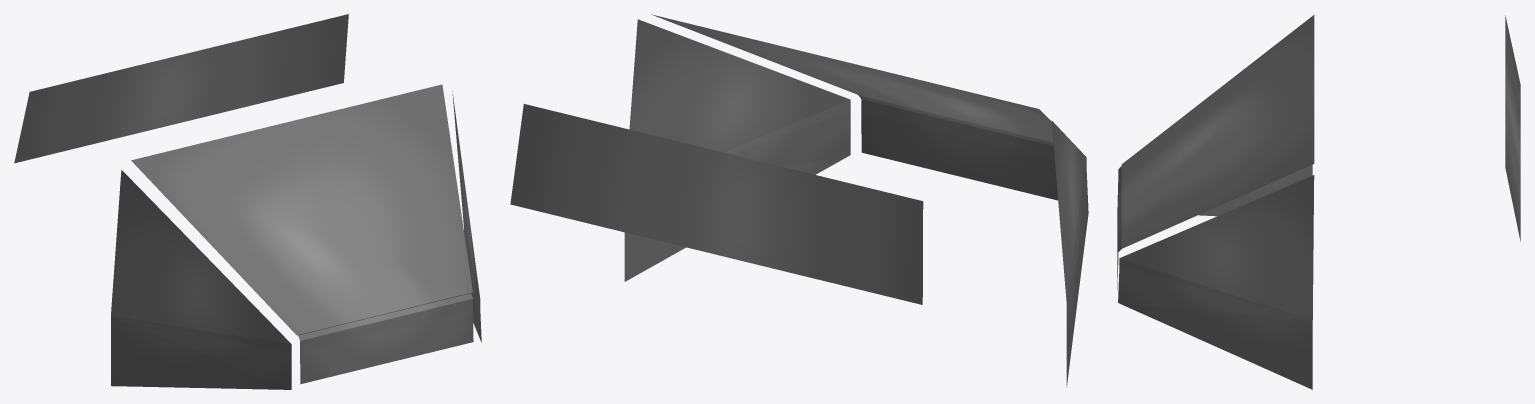
File: vbl_worker_g.dae
3 views of the same model, side by side, from view 1: azimuth 30°, elevation 25°; view 2: azimuth 150°, elevation 25°; view 3: azimuth 270°, elevation 25° (orthographic). The views are drawn at different scales.
Visible parts, largest first — view 1: VBL_worker_g; view 2: VBL_worker_g; view 3: VBL_worker_g.
Part boxes in pixels (left/top/right/bottom): VBL_worker_g: left=14, top=14, right=481, bottom=389; VBL_worker_g: left=510, top=14, right=1088, bottom=387; VBL_worker_g: left=1117, top=15, right=1520, bottom=389.
Bounding box in the file's own units: 5.75 × 5.79 × 3.43.
